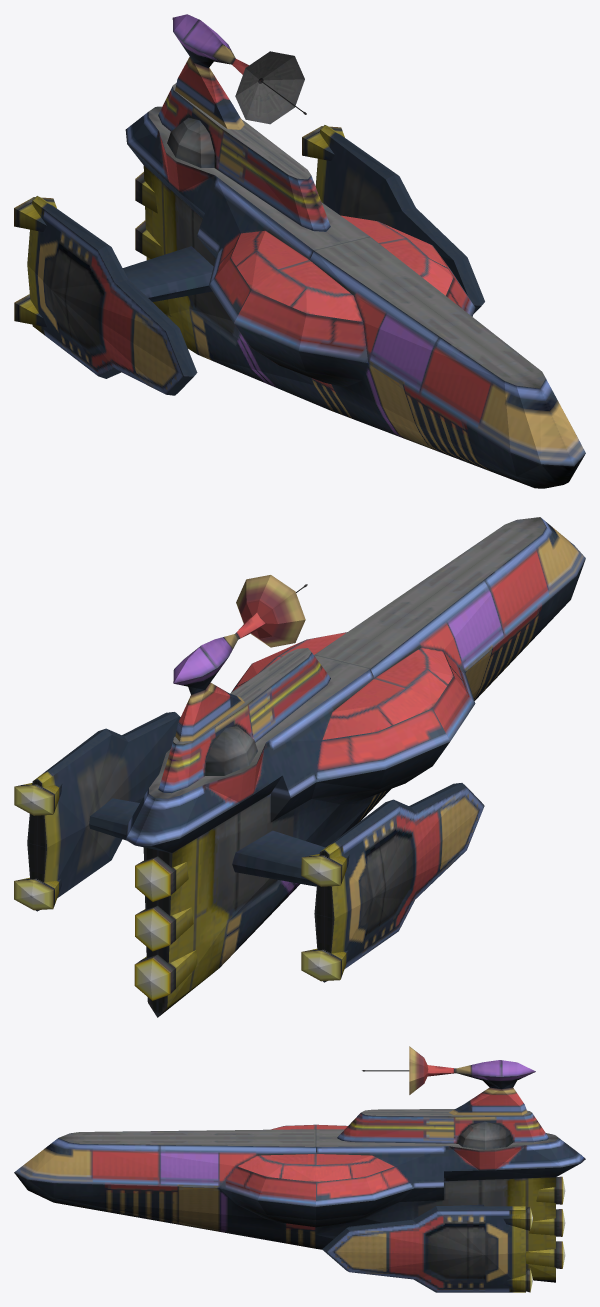
Rendered from Large Ship.fbx.
3 renders of one model, top to bottom at view 1: azimuth 30°, elevation 25°; view 2: azimuth 150°, elevation 25°; view 3: azimuth 270°, elevation 25°, orthographic. The views are drawn at different scales.
Visible parts, largest first — view 1: polygon82; view 2: polygon82; view 3: polygon82.
Boxes of the visible parts, x1,y1,x2,y2 form: polygon82: (14,14,585,488); polygon82: (14,517,585,1017); polygon82: (14,1046,585,1292).
Bounding box in the file's own units: 1760 × 1858 × 4093.
1 material, 1 textured.
